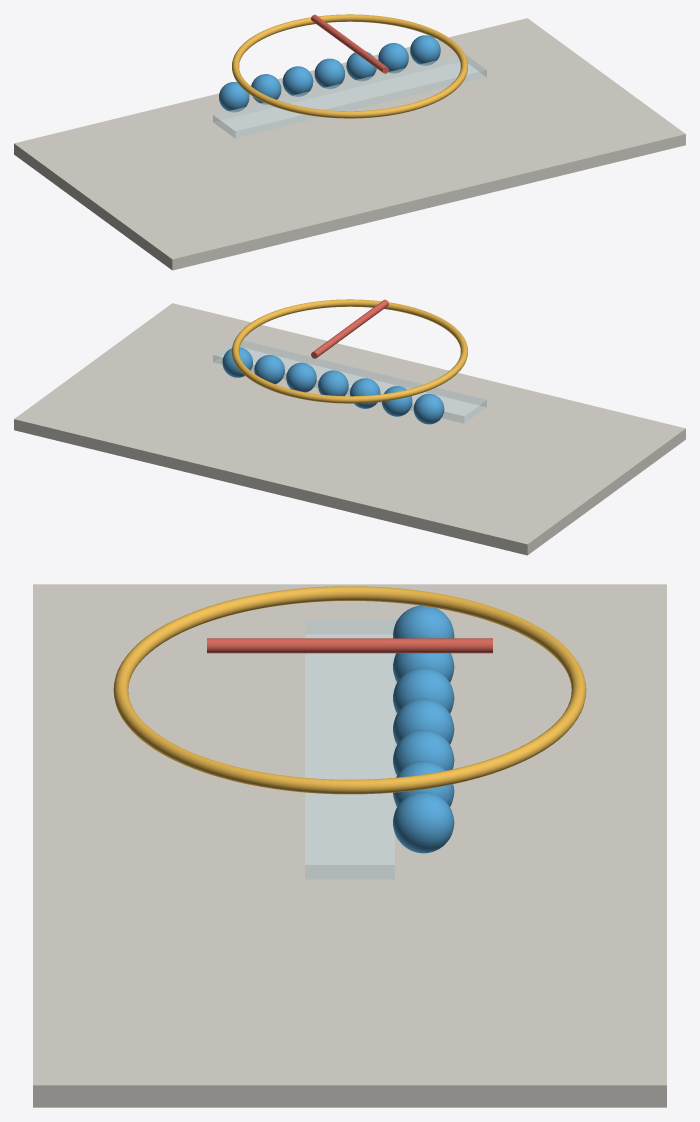
The model's file is math-number-prime-number.glb.
3 views of the same model, one above another, from view 1: azimuth 30°, elevation 25°; view 2: azimuth 150°, elevation 25°; view 3: azimuth 270°, elevation 25° (orthographic). The views are drawn at different scales.
Parts seen in each view (by area): view 1: number-sense-base, only-one-by-seven-array-frame, prime-special-highlight-ring, prime-seven-counters-counter-3, prime-seven-counters-counter-4, prime-seven-counters-counter-7, no-even-split-divider, prime-seven-counters-counter-1, prime-seven-counters-counter-6, prime-seven-counters-counter-5, prime-seven-counters-counter-2; view 2: number-sense-base, prime-special-highlight-ring, only-one-by-seven-array-frame, prime-seven-counters-counter-1, prime-seven-counters-counter-5, no-even-split-divider, prime-seven-counters-counter-6, prime-seven-counters-counter-4, prime-seven-counters-counter-2, prime-seven-counters-counter-3, prime-seven-counters-counter-7; view 3: number-sense-base, only-one-by-seven-array-frame, prime-special-highlight-ring, no-even-split-divider, prime-seven-counters-counter-7, prime-seven-counters-counter-3, prime-seven-counters-counter-4, prime-seven-counters-counter-5, prime-seven-counters-counter-1, prime-seven-counters-counter-2, prime-seven-counters-counter-6.
Boxes of the visible parts, x1,y1,x2,y2 form: number-sense-base: (14, 18, 685, 270); only-one-by-seven-array-frame: (213, 54, 486, 138); prime-special-highlight-ring: (232, 14, 467, 118); prime-seven-counters-counter-3: (282, 66, 313, 96); prime-seven-counters-counter-4: (314, 58, 344, 88); prime-seven-counters-counter-7: (410, 35, 440, 65); no-even-split-divider: (311, 14, 388, 73); prime-seven-counters-counter-1: (219, 82, 249, 112); prime-seven-counters-counter-6: (378, 43, 408, 73); prime-seven-counters-counter-5: (346, 51, 376, 80); prime-seven-counters-counter-2: (251, 74, 281, 104); number-sense-base: (14, 303, 685, 555); prime-special-highlight-ring: (232, 299, 467, 403); only-one-by-seven-array-frame: (213, 339, 486, 423); prime-seven-counters-counter-1: (413, 393, 444, 424); prime-seven-counters-counter-5: (286, 362, 316, 392); no-even-split-divider: (311, 299, 388, 358); prime-seven-counters-counter-6: (254, 355, 284, 384); prime-seven-counters-counter-4: (318, 370, 348, 395); prime-seven-counters-counter-2: (382, 386, 412, 416); prime-seven-counters-counter-3: (350, 378, 380, 408); prime-seven-counters-counter-7: (222, 347, 252, 377); number-sense-base: (33, 584, 666, 1107); only-one-by-seven-array-frame: (305, 619, 394, 879); prime-special-highlight-ring: (113, 586, 586, 794); no-even-split-divider: (207, 638, 492, 653); prime-seven-counters-counter-7: (393, 792, 454, 853); prime-seven-counters-counter-3: (393, 667, 454, 713); prime-seven-counters-counter-4: (393, 698, 454, 744); prime-seven-counters-counter-5: (393, 729, 454, 775); prime-seven-counters-counter-1: (393, 605, 454, 638); prime-seven-counters-counter-2: (393, 636, 454, 682); prime-seven-counters-counter-6: (393, 761, 454, 806).
Size of what is drawn, in the model's own units: 2.9 by 0.588 by 1.55.
